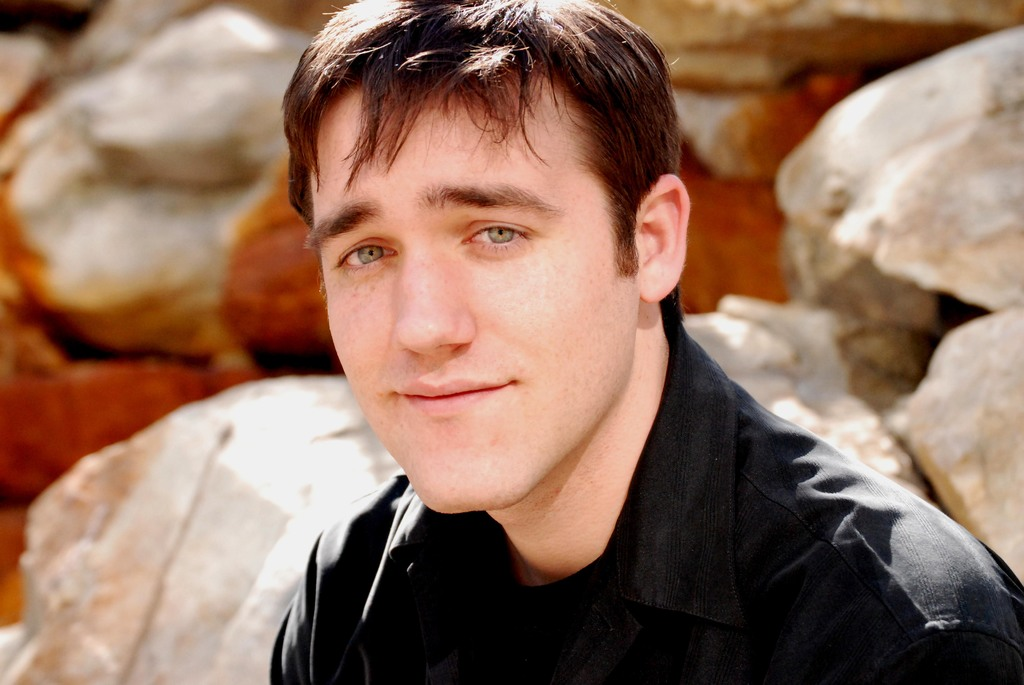Human-face: (308, 84, 643, 510)
